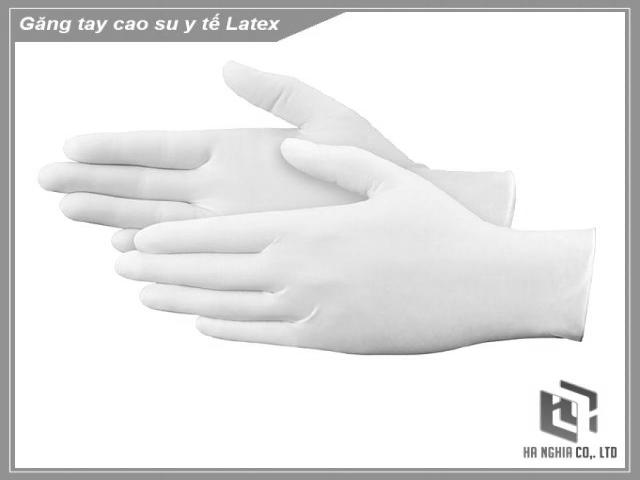gloved: (133, 136, 506, 358), (38, 58, 430, 248)
